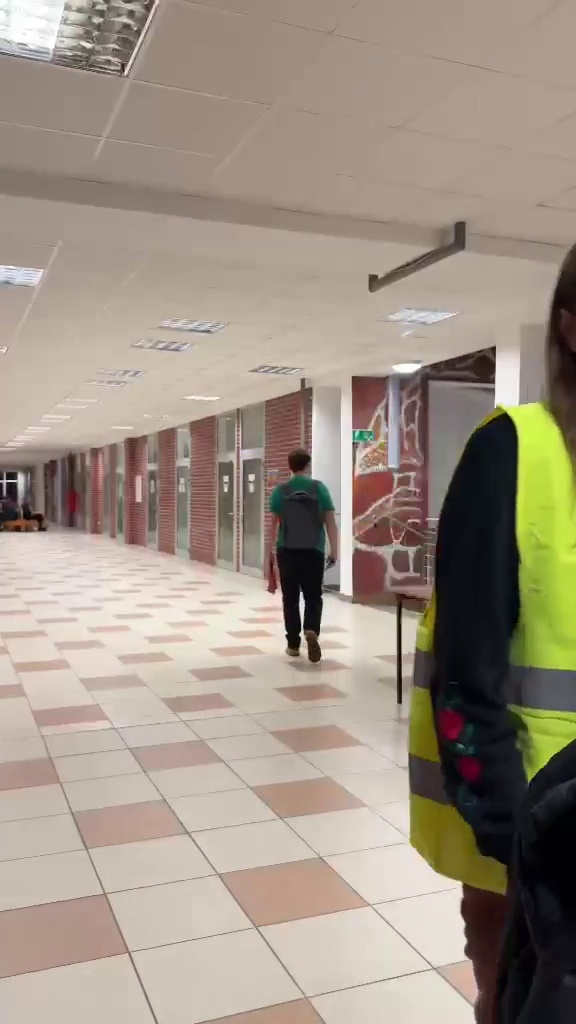no vest: (265, 447, 339, 666)
vest: (400, 220, 576, 985)
